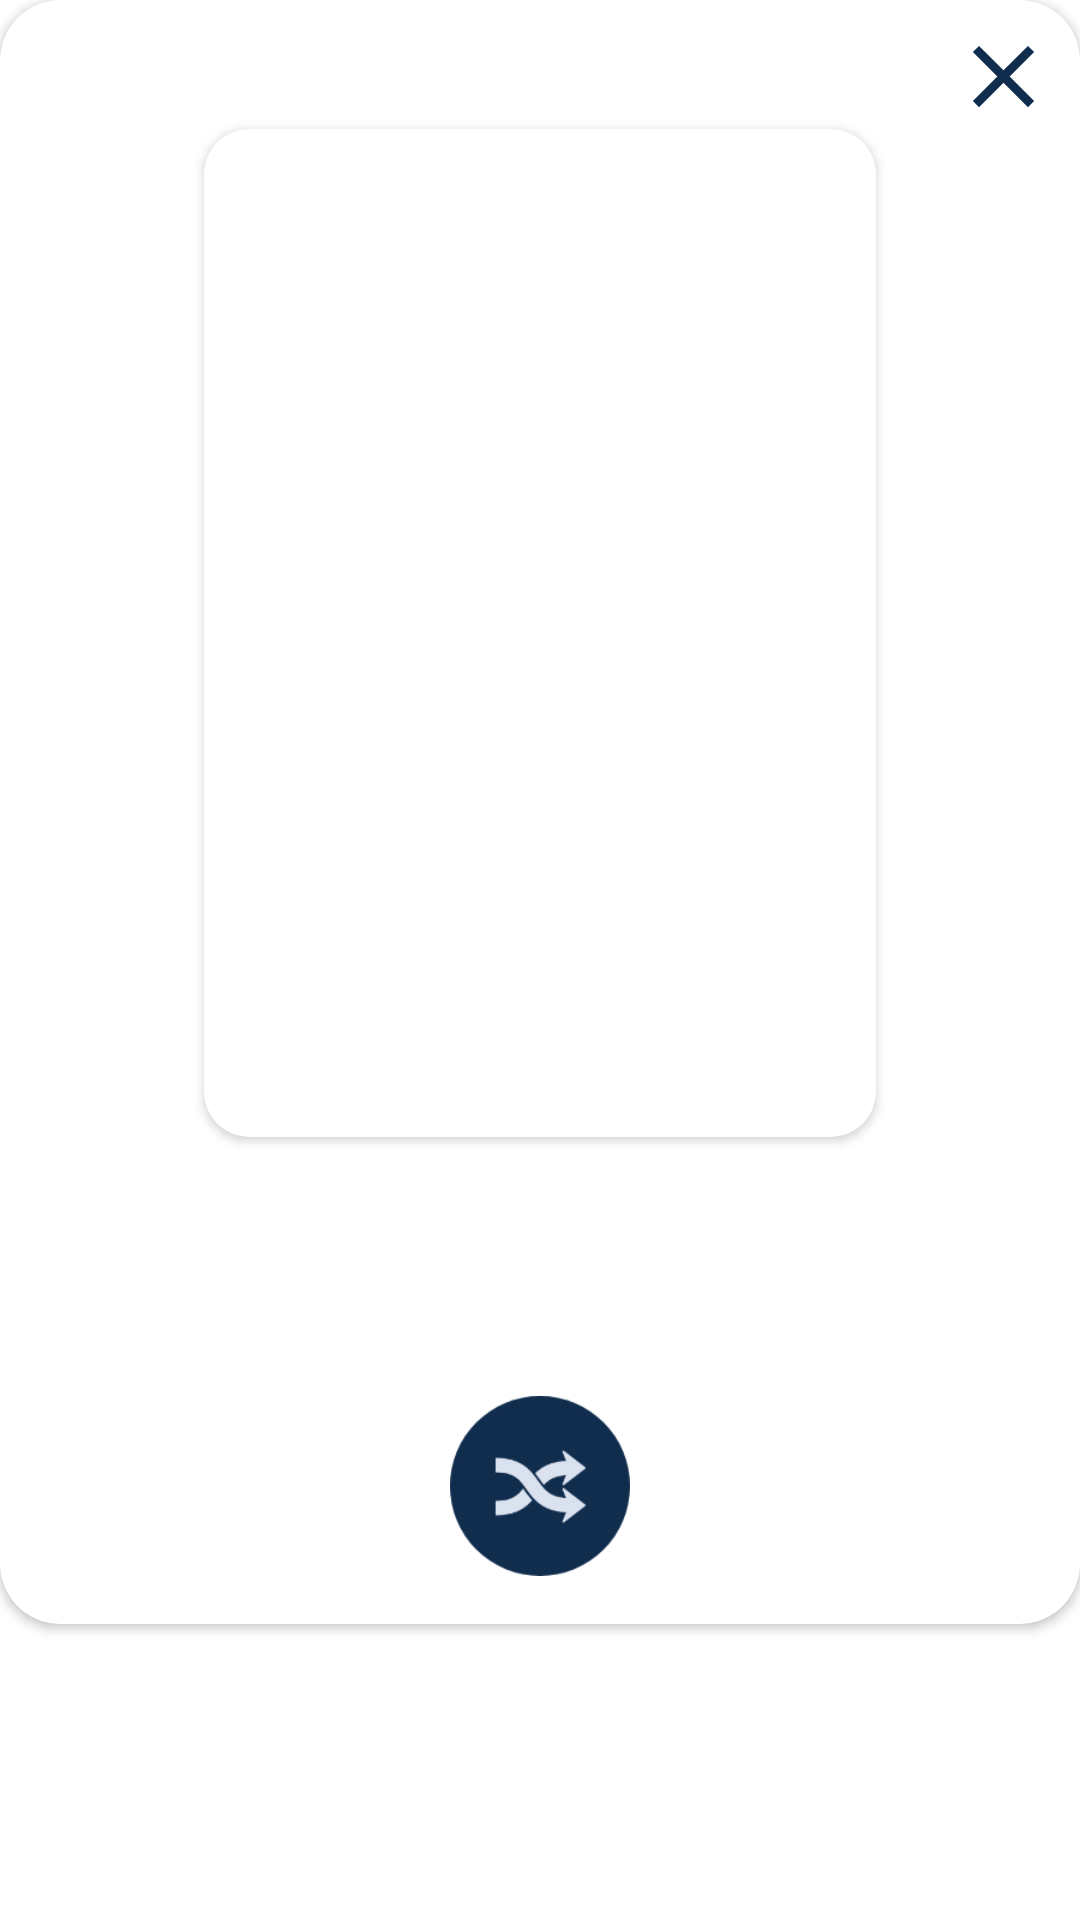

Screen size 1080×1920. Icon name, then its center in pixels as (x=x, y=y):
cancel: (x=1003, y=76)
